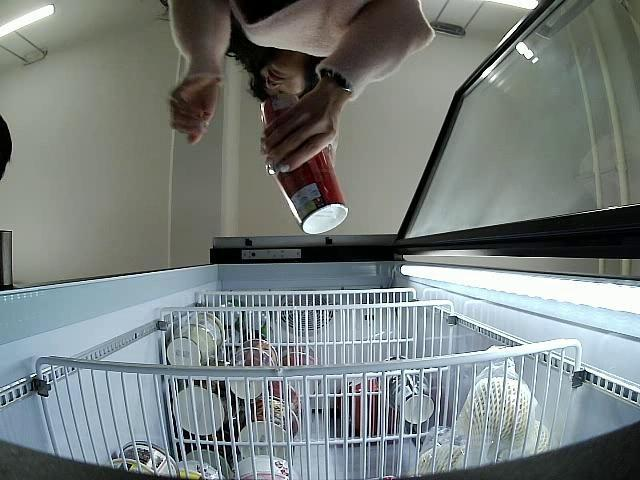02_shinRamen_S: (271, 144, 348, 234)
